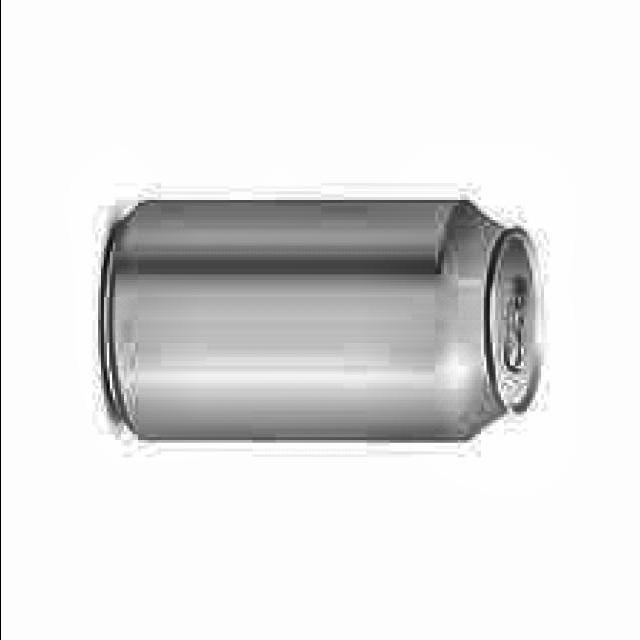Aluminum Can: (80, 182, 547, 461)
